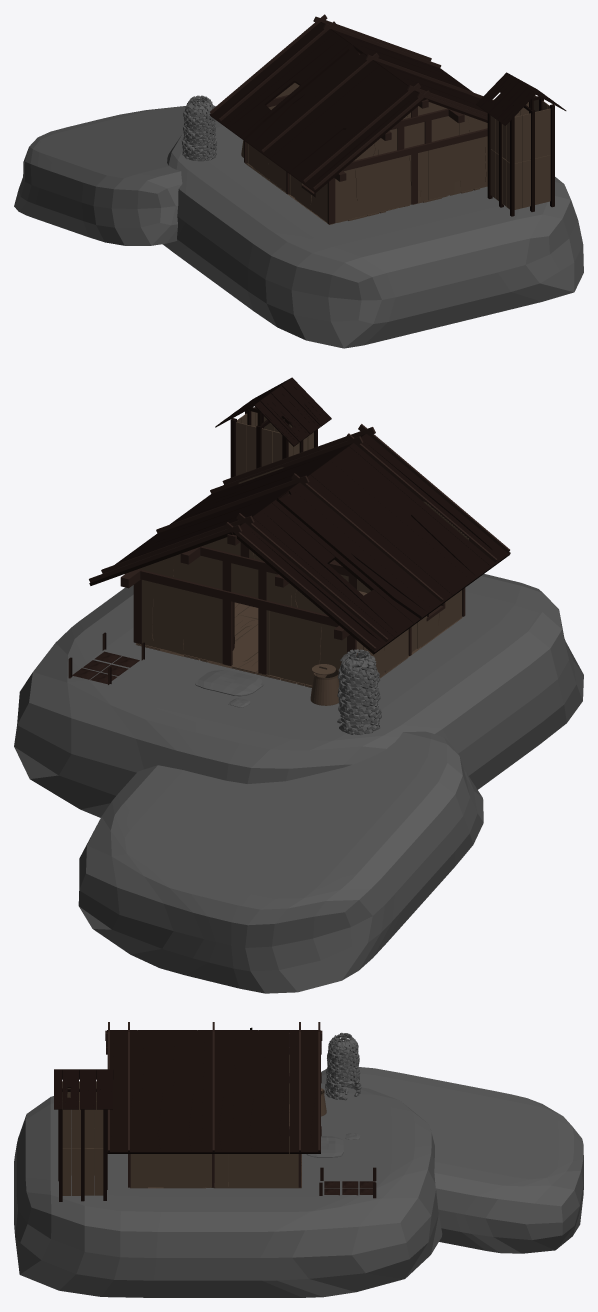
The model's file is house_upgrade002.fbx.
3 views of the same model, one above another, from view 1: azimuth 30°, elevation 25°; view 2: azimuth 150°, elevation 25°; view 3: azimuth 270°, elevation 25° (orthographic). The views are drawn at different scales.
Visible parts, largest first — view 1: terrain, Roof001, Roof002, Upgrade001, Structure, Walls001, Walls002, Upgrade002; view 2: terrain, Roof001, Roof002, Structure, Walls001, Walls002, Upgrade001, Upgrade002, OutsideRock, Garden, Floor002, Floor001 (+1 smaller); view 3: terrain, Roof002, Roof001, Upgrade001, Walls002, Walls001, Upgrade002, Structure, Garden, OutsideRock.
Part boxes in pixels (x1=…): terrain: x1=14, y1=106, x2=583, y2=348; Roof001: x1=209, y1=22, x2=486, y2=192; Roof002: x1=225, y1=22, x2=487, y2=181; Upgrade001: x1=476, y1=72, x2=566, y2=216; Structure: x1=210, y1=14, x2=487, y2=224; Walls001: x1=253, y1=85, x2=480, y2=222; Walls002: x1=246, y1=83, x2=487, y2=220; Upgrade002: x1=181, y1=95, x2=217, y2=161; terrain: x1=14, y1=574, x2=583, y2=993; Roof001: x1=115, y1=434, x2=510, y2=654; Roof002: x1=89, y1=434, x2=491, y2=639; Structure: x1=89, y1=424, x2=509, y2=674; Walls001: x1=142, y1=467, x2=461, y2=682; Walls002: x1=139, y1=469, x2=468, y2=685; Upgrade001: x1=215, y1=377, x2=331, y2=477; Upgrade002: x1=337, y1=649, x2=381, y2=734; OutsideRock: x1=195, y1=669, x2=264, y2=707; Garden: x1=68, y1=632, x2=144, y2=684; Floor002: x1=136, y1=592, x2=407, y2=685; Floor001: x1=160, y1=591, x2=461, y2=687; terrain: x1=14, y1=1067, x2=583, y2=1297; Roof002: x1=107, y1=1030, x2=320, y2=1153; Roof001: x1=107, y1=1027, x2=317, y2=1153; Upgrade001: x1=54, y1=1069, x2=113, y2=1201; Walls002: x1=143, y1=1054, x2=298, y2=1187; Walls001: x1=130, y1=1154, x2=284, y2=1187; Upgrade002: x1=325, y1=1032, x2=361, y2=1100; Structure: x1=105, y1=1022, x2=322, y2=1187; Garden: x1=319, y1=1167, x2=376, y2=1198; OutsideRock: x1=306, y1=1133, x2=360, y2=1157.
Size of the model in its own units: 1641 by 1010 by 2209.
